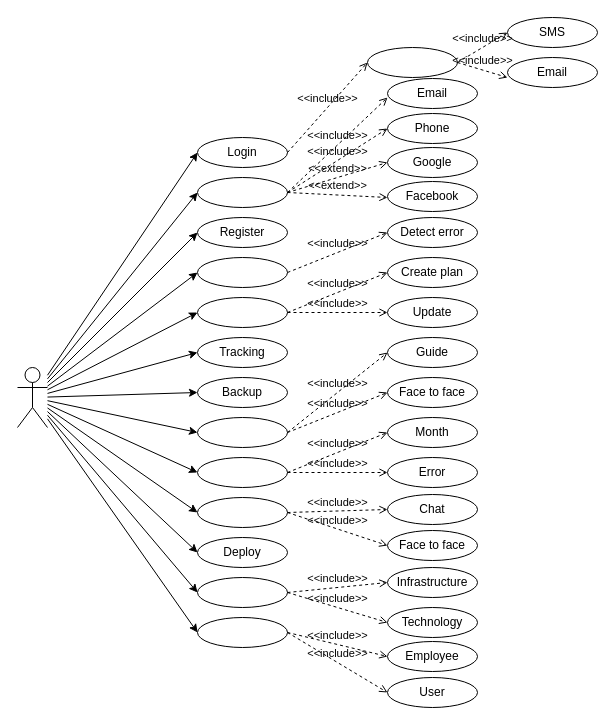
The diagram is 615 pixels wide and 725 high, and some of its shapes have lost their labels. The shapes that lost their labels are listed below. From the top down, each one's centre as x and y in pixels, then its label:
At (x=412, y=62): "Verify".
At (x=242, y=192): "Logout".
At (x=242, y=272): "Repair".
At (x=242, y=312): "Maintenance".
At (x=32, y=397): "IT".
At (x=242, y=432): "Install".
At (x=242, y=472): "Report".
At (x=242, y=512): "Support user".
At (x=242, y=592): "Suggest solution".
At (x=242, y=632): "Training".
